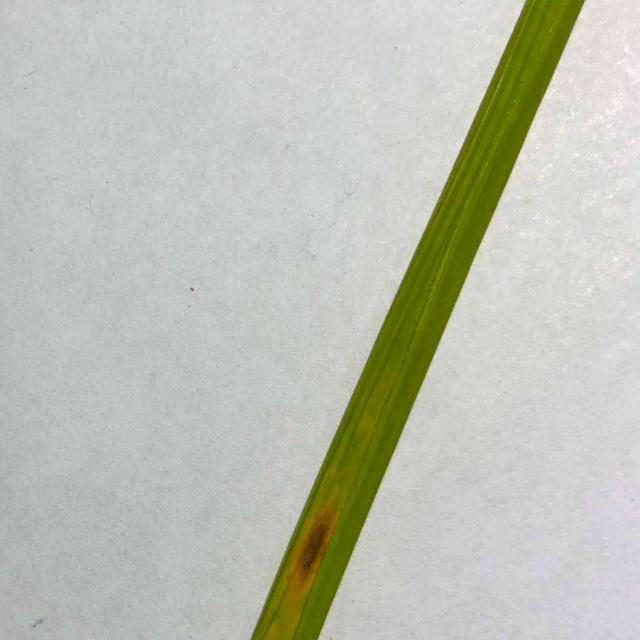brownspots: (280, 502, 345, 580)
